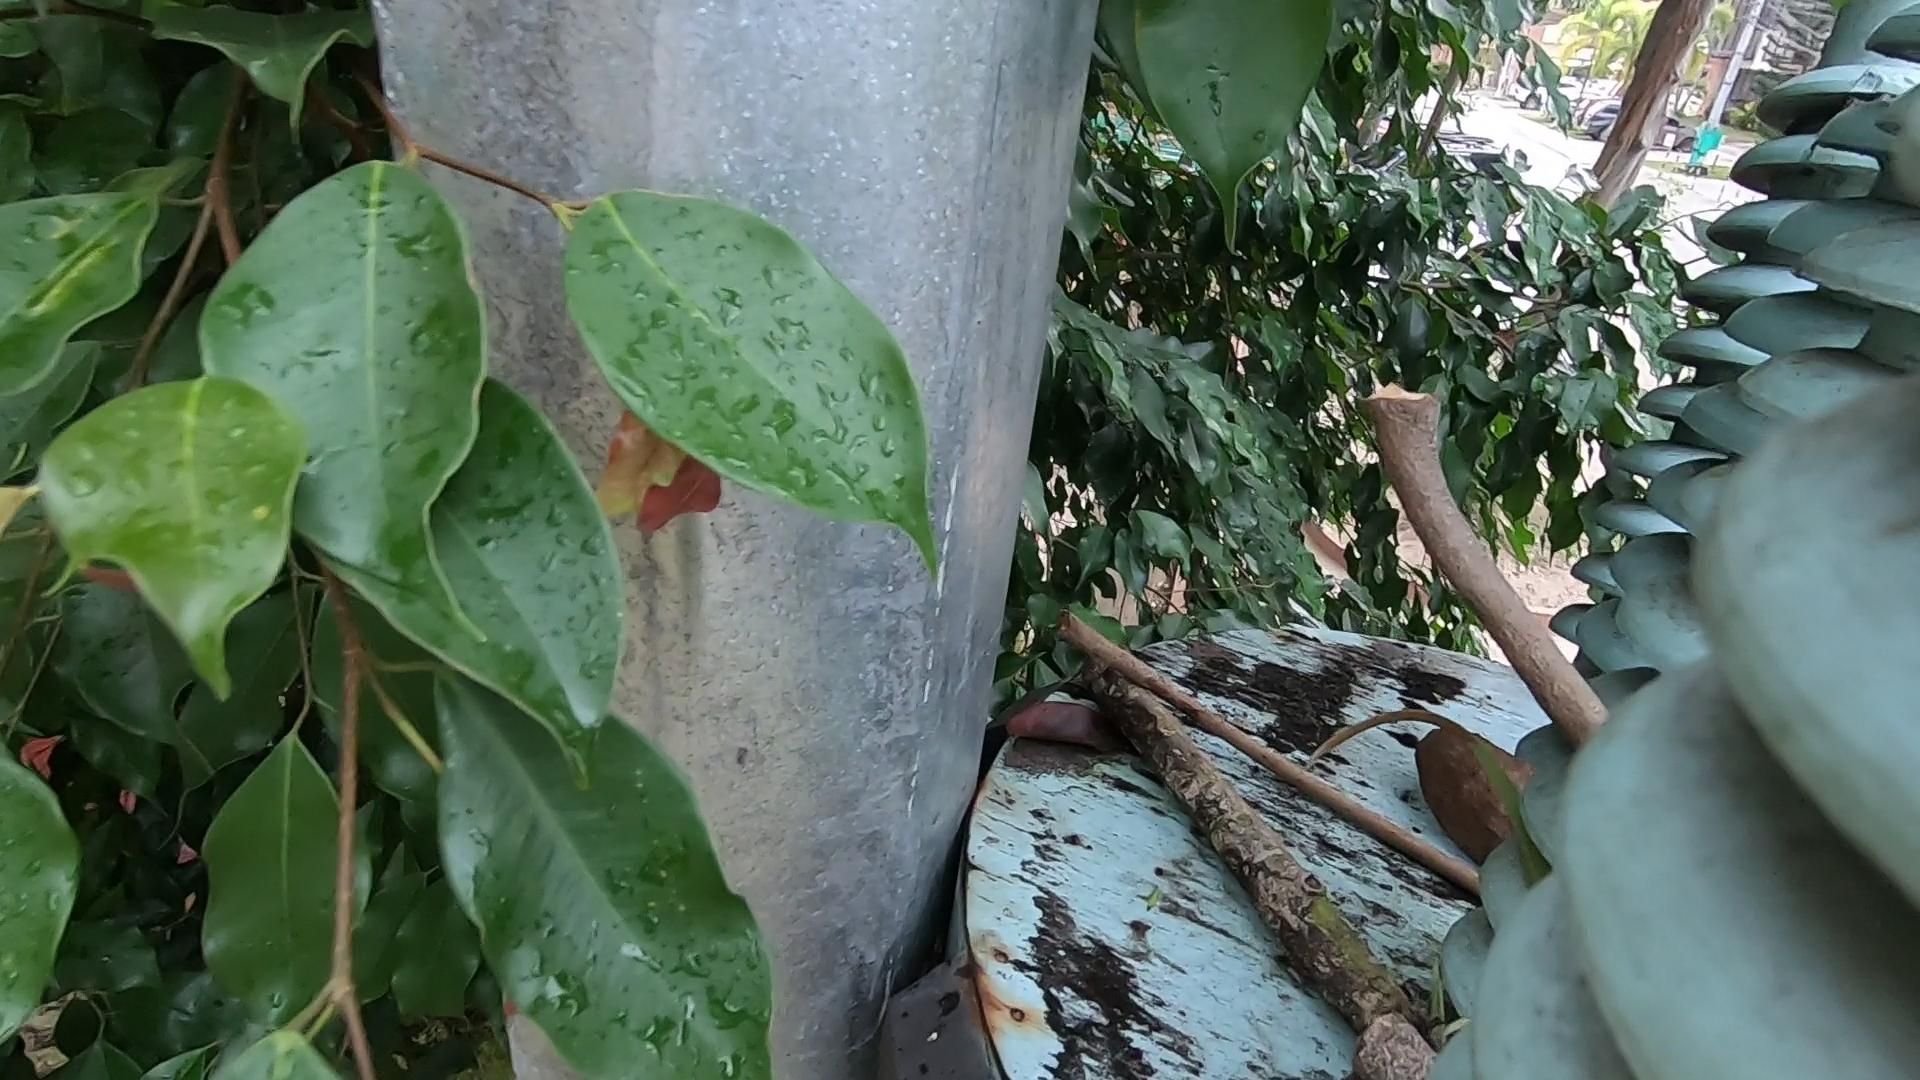branch with leaves: (1110, 667, 1435, 1065)
leaf: (992, 688, 1141, 771)
mahogany fruit: (1371, 692, 1528, 916), (1304, 669, 1333, 674)
tree branch: (1054, 596, 1509, 878), (1338, 376, 1669, 749)
